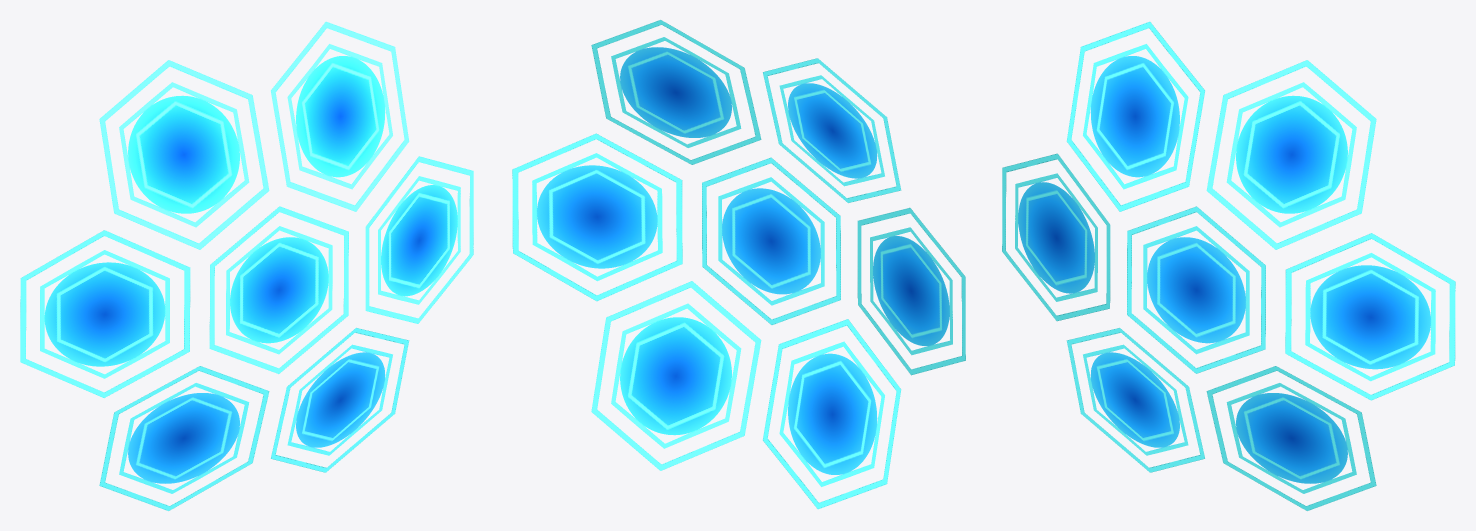
The model's file is pushShield.glb.
3 views of the same model, side by side, from view 1: azimuth 30°, elevation 25°; view 2: azimuth 150°, elevation 25°; view 3: azimuth 330°, elevation 25° (orthographic).
Parts seen in each view (by area): view 1: pushShield; view 2: pushShield; view 3: pushShield.
Part boxes in pixels (<box>): pushShield: <box>20,21,473,510</box>; pushShield: <box>512,20,965,509</box>; pushShield: <box>1002,21,1455,510</box>.
Size of what is drawn, in the model's own units: 0.4218 by 0.404 by 0.0526.
1 material, 1 textured.
